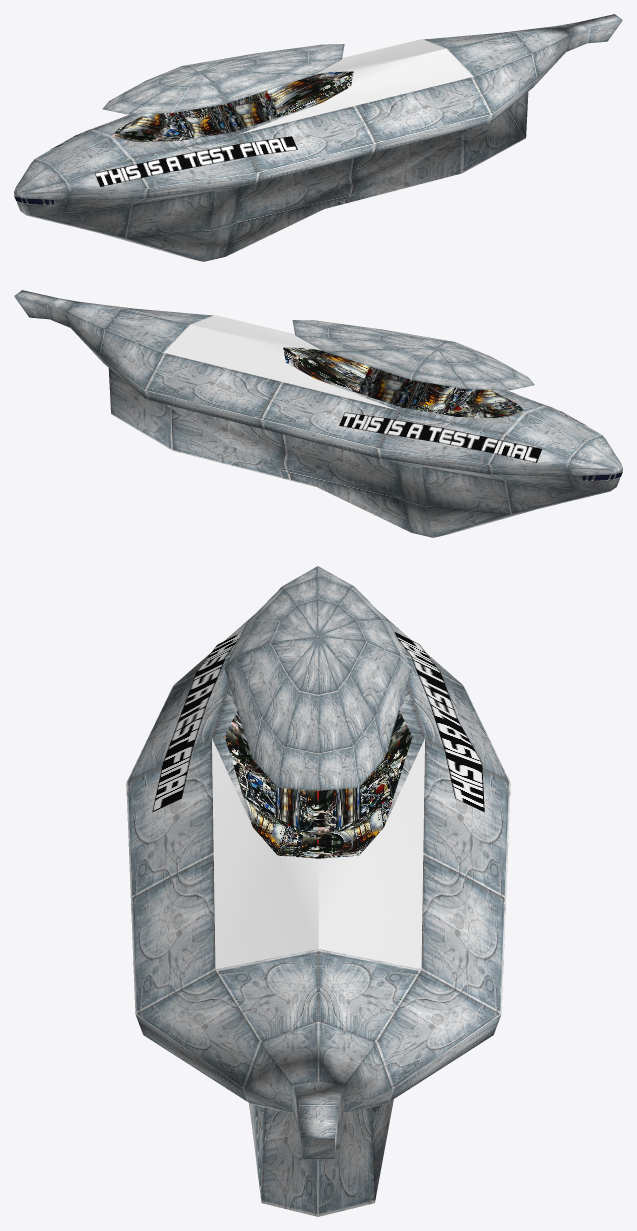
The model's file is sjh23.obj.
The picture shows the model from 3 angles, top to bottom: view 1: azimuth 30°, elevation 25°; view 2: azimuth 150°, elevation 25°; view 3: azimuth 270°, elevation 25°; orthographic projection. The views are drawn at different scales.
Visible parts, largest first — view 1: HULL_FIGHTER020, CAP010.001, DECAL030.001, NAMEDECAL0.001, INNERDS010; view 2: HULL_FIGHTER020, CAP010.001, DECAL030.001, NAMEDECAL0.001, INNERDS010; view 3: HULL_FIGHTER020, CAP010.001, DECAL030.001, NAMEDECAL0.001, INNERDS010.
Part boxes in pixels (box(x1,y1,x2,y2)): HULL_FIGHTER020: box(14, 14, 622, 261); CAP010.001: box(102, 44, 344, 114); DECAL030.001: box(239, 39, 472, 134); NAMEDECAL0.001: box(50, 114, 297, 186); INNERDS010: box(206, 90, 278, 132); HULL_FIGHTER020: box(14, 290, 622, 537); CAP010.001: box(292, 320, 534, 390); DECAL030.001: box(164, 315, 397, 410); NAMEDECAL0.001: box(339, 390, 585, 462); INNERDS010: box(358, 366, 430, 408); HULL_FIGHTER020: box(126, 612, 510, 1216); CAP010.001: box(224, 566, 412, 790); DECAL030.001: box(212, 739, 424, 968); NAMEDECAL0.001: box(152, 631, 484, 812); INNERDS010: box(275, 786, 360, 828).
Bounding box in the file's own units: 68.9 × 19.97 × 18.96.
9 materials, 9 textured.
